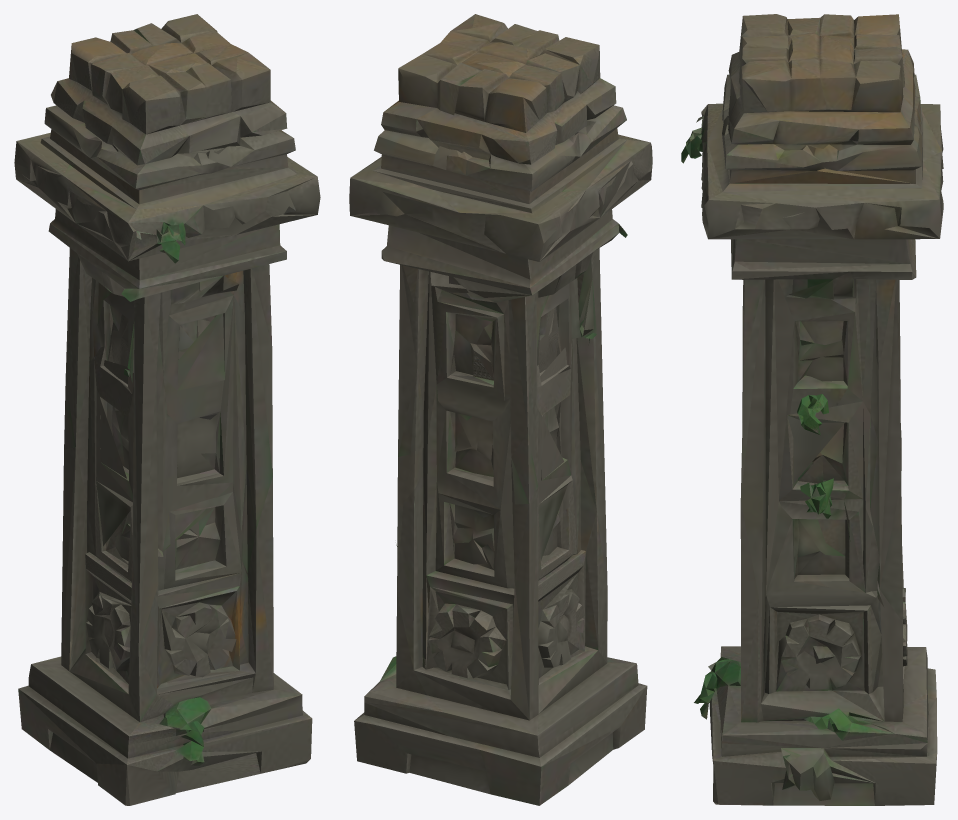
File: temple_ruin.glb
3 views of the same model, side by side, from view 1: azimuth 30°, elevation 25°; view 2: azimuth 150°, elevation 25°; view 3: azimuth 270°, elevation 25° (orthographic). The views are drawn at different scales.
Bounding box in the file's own units: 0.5843 × 1.9 × 0.6281.
Materials: 1 (1 with a texture image).
